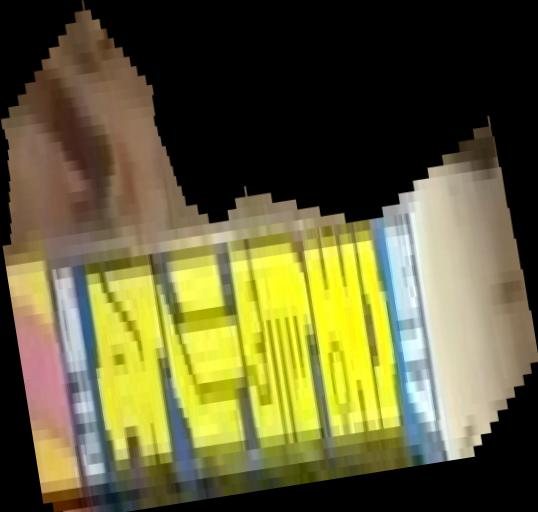flat: (1, 1, 538, 512)
